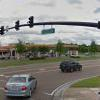Traffic light: (3, 14, 44, 38)
